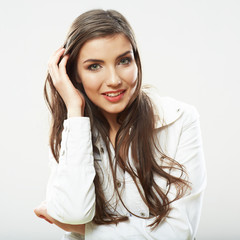teen: (68, 6, 141, 113)
